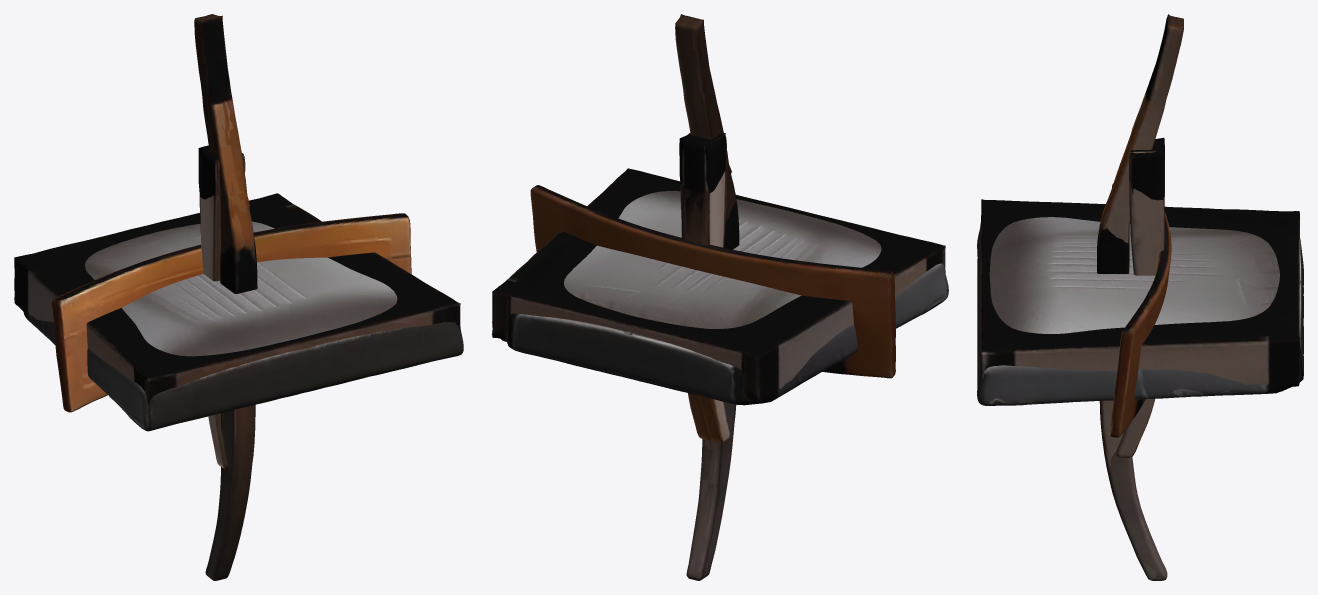
3 renders of one model, left to right at view 1: azimuth 30°, elevation 25°; view 2: azimuth 150°, elevation 25°; view 3: azimuth 270°, elevation 25°, orthographic.
Visible parts, largest first — view 1: root.0, root.1, root.2, root.3, root.4, root.6, root.5; view 2: root.0, root.1, root.2, root.3, root.4, root.6, root.5; view 3: root.0, root.1, root.4, root.3, root.2, root.5, root.6.
Part boxes in pixels (box(x1,y1,x2,y2)): root.0: box(23, 221, 463, 431); root.1: box(14, 193, 460, 404); root.2: box(52, 213, 411, 412); root.3: box(194, 15, 257, 580); root.4: box(194, 14, 256, 579); root.6: box(199, 145, 245, 469); root.5: box(198, 147, 244, 211); root.0: box(507, 191, 948, 405); root.1: box(492, 168, 945, 402); root.2: box(530, 185, 895, 378); root.3: box(675, 16, 736, 580); root.4: box(675, 14, 739, 580); root.6: box(679, 132, 730, 442); root.5: box(680, 132, 726, 439); root.0: box(977, 217, 1303, 405); root.1: box(981, 199, 1299, 387); root.4: box(1097, 17, 1183, 580); root.3: box(1097, 14, 1183, 580); root.2: box(1109, 211, 1171, 437); root.5: box(1116, 137, 1164, 457); root.6: box(1129, 139, 1164, 239).
Size of the model in its own units: 16127 by 24125 by 12789.
1 material, 1 textured.
